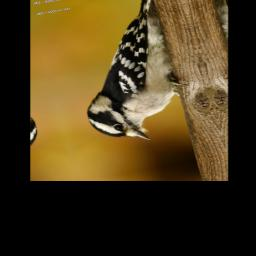Woodpecker: (55, 0, 199, 150)
